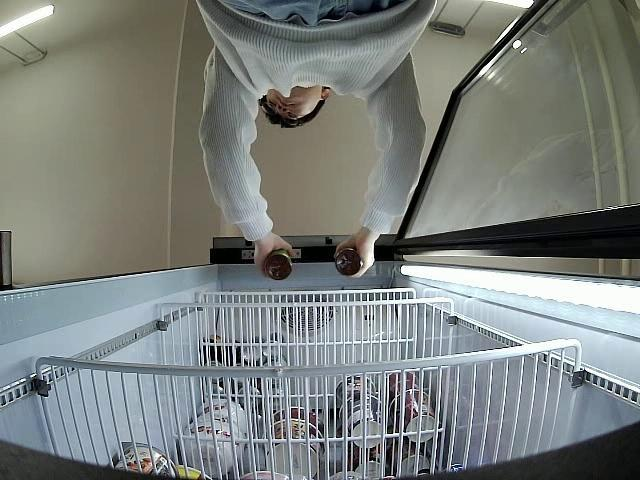19_17cha: (263, 249, 293, 280), (334, 250, 362, 278)
